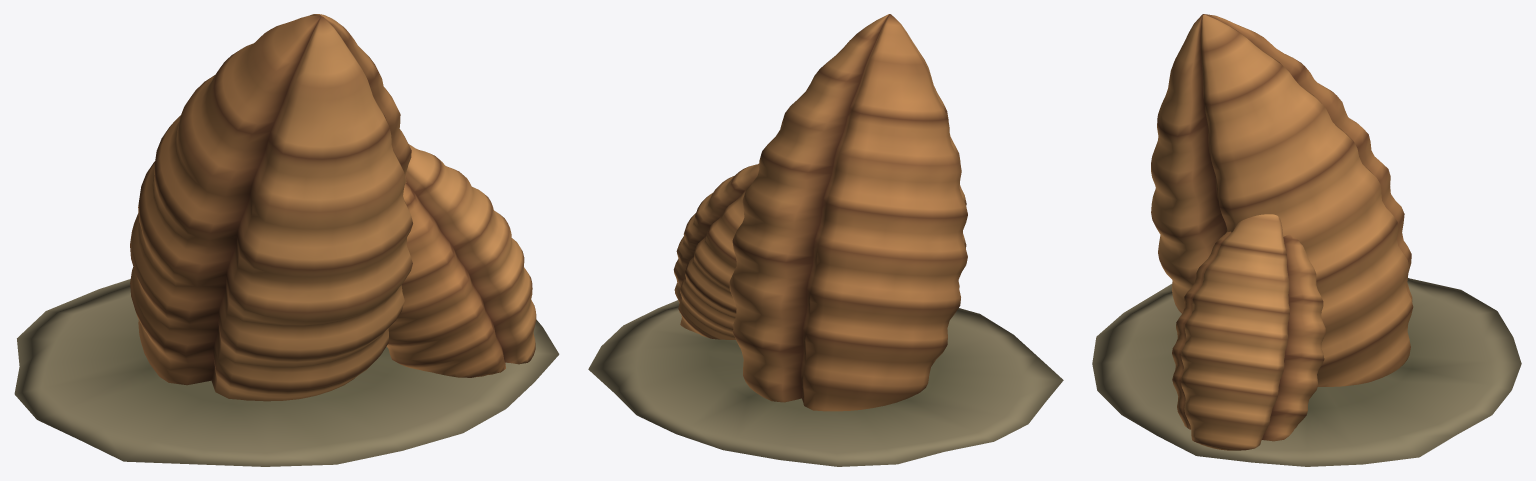
The model's file is Ventogyrus.fbx.
3 renders of one model, left to right at view 1: azimuth 30°, elevation 25°; view 2: azimuth 150°, elevation 25°; view 3: azimuth 270°, elevation 25°, orthographic. The views are drawn at different scales.
Visible parts, largest first — view 1: Ventogyrus; view 2: Ventogyrus; view 3: Ventogyrus.
Boxes of the visible parts, <box> form: Ventogyrus: <box>14,14,559,466</box>; Ventogyrus: <box>588,14,1063,466</box>; Ventogyrus: <box>1092,14,1521,466</box>.
Bounding box in the file's own units: 1.4 × 1.08 × 1.23.
